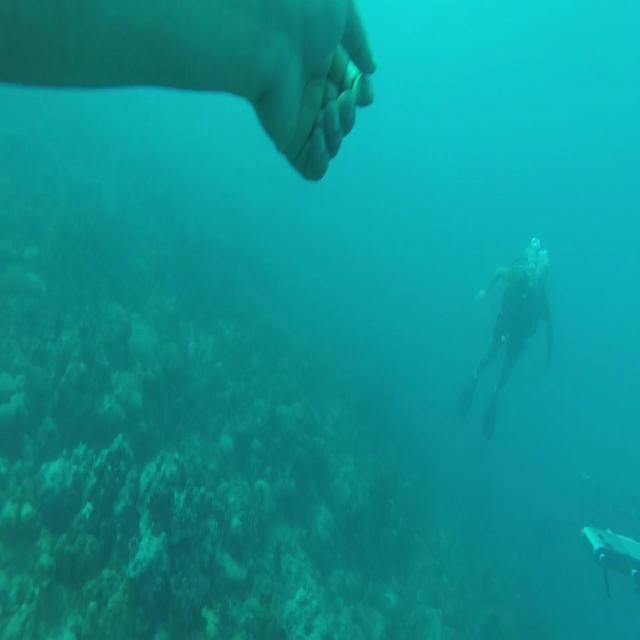human: (0, 0, 377, 182), (456, 235, 554, 439)
